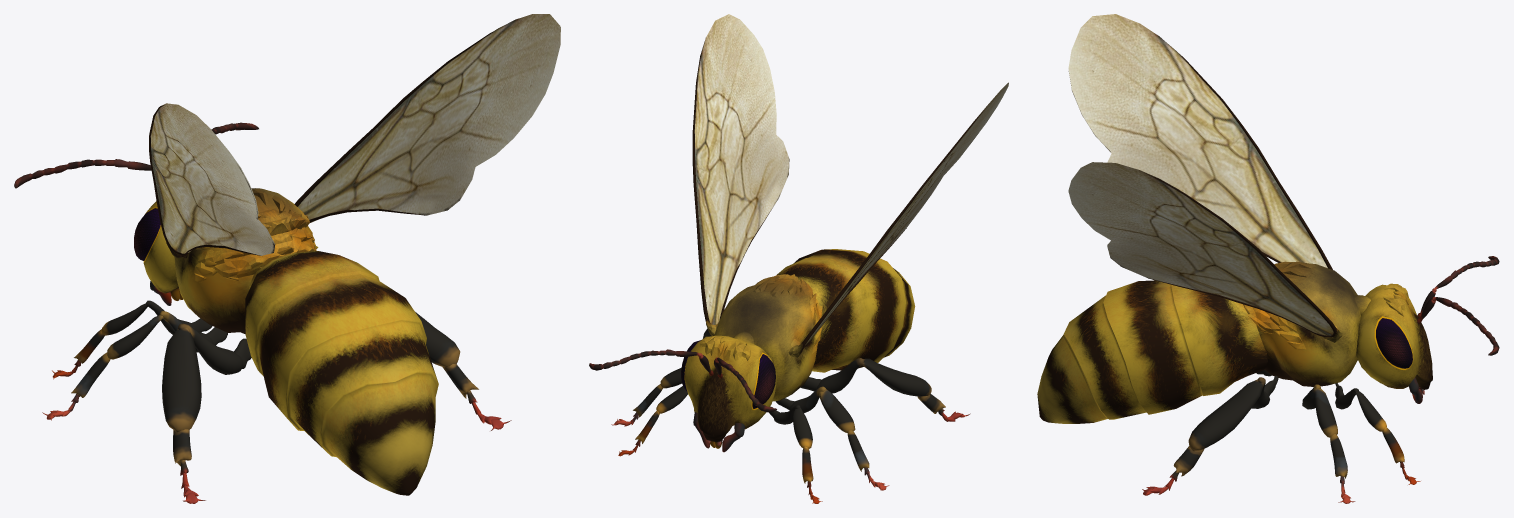
The picture shows the model from 3 angles, left to right: view 1: azimuth 30°, elevation 25°; view 2: azimuth 150°, elevation 25°; view 3: azimuth 270°, elevation 25°; orthographic projection. The views are drawn at different scales.
Parts seen in each view (by area): view 1: Bee; view 2: Bee; view 3: Bee.
Boxes of the visible parts, x1=… form: Bee: x1=14, y1=14, x2=560, y2=503; Bee: x1=589, y1=14, x2=1008, y2=503; Bee: x1=1037, y1=14, x2=1499, y2=503.
Size of the model in its own units: 0.2875 by 0.31 by 0.3762.
Materials: 1 (1 with a texture image).
